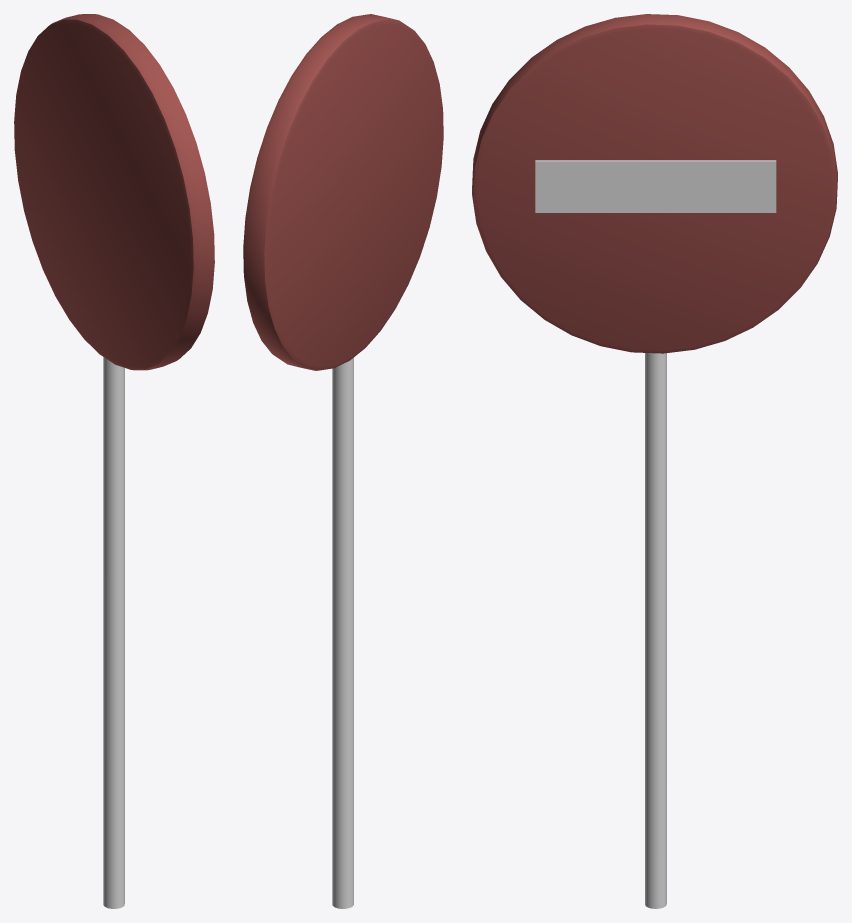
The model's file is Stop_sign_v2.fbx.
The picture shows the model from 3 angles, left to right: view 1: azimuth 30°, elevation 25°; view 2: azimuth 150°, elevation 25°; view 3: azimuth 270°, elevation 25°; orthographic projection.
Parts seen in each view (by area): view 1: Cylinder029, Cylinder028; view 2: Cylinder029, Cylinder028; view 3: Cylinder029, Box1384, Cylinder028.
Part boxes in pixels (left/top/right/bottom): Cylinder029: left=14, top=14, right=214, bottom=370; Cylinder028: left=103, top=357, right=124, bottom=908; Cylinder029: left=243, top=14, right=443, bottom=370; Cylinder028: left=332, top=357, right=353, bottom=908; Cylinder029: left=472, top=14, right=837, bottom=353; Box1384: left=535, top=160, right=776, bottom=212; Cylinder028: left=645, top=353, right=666, bottom=908.
Size of the model in its own units: 6.95 by 226 by 84.43.
